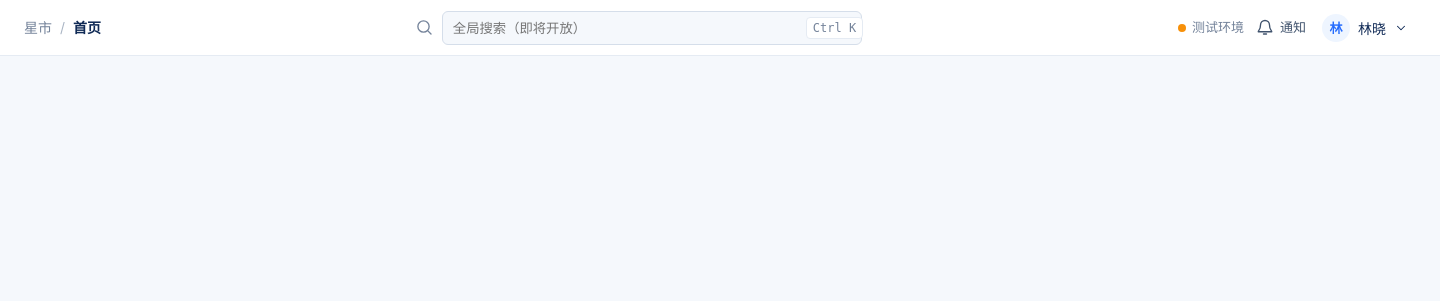
Test: DEMO-U6 header tenant labels › shows names in the tenant row and the switch options while values stay tenant ids
What coordinates should you click on to do the following:
click the button with test id "shell-user"
I would click on:
 (1367, 28)
Its box is x1=1318 y1=10 x2=1416 y2=44.
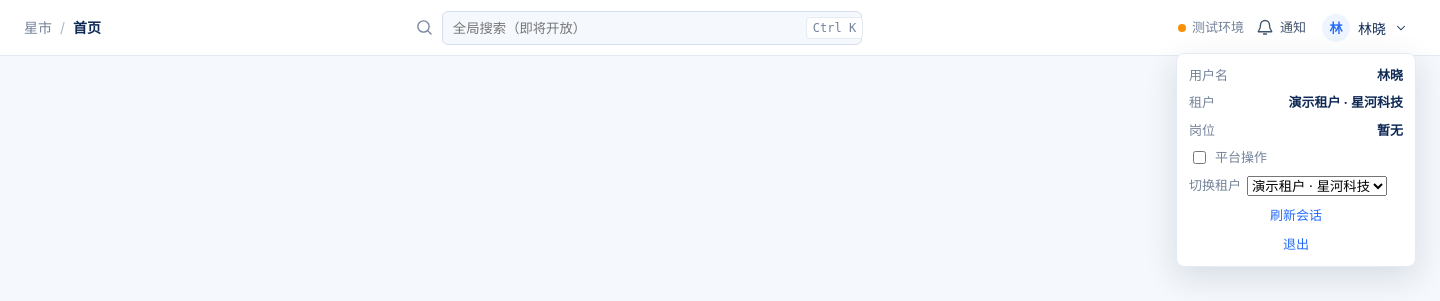
expect the text with test id "shell-tenant" reads "演示租户 · 星河科技": met, box x1=1288 y1=94 x2=1403 y2=110
